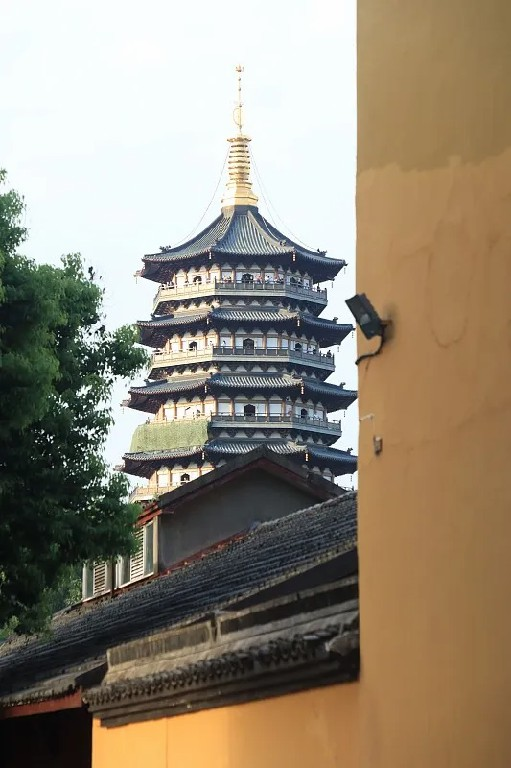Leifeng: (119, 61, 354, 493)
